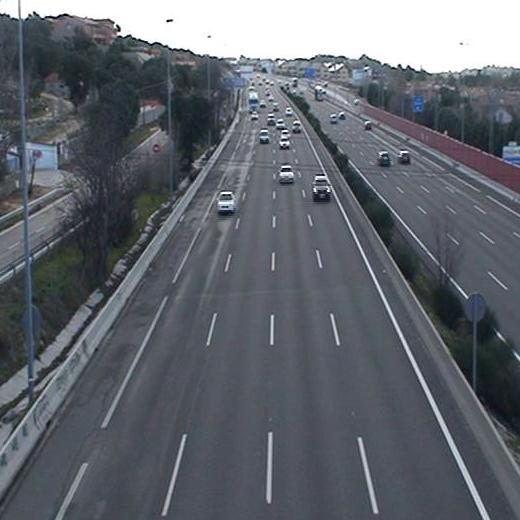car: (310, 174, 333, 202), (215, 190, 237, 213), (279, 164, 295, 184), (258, 128, 270, 145), (278, 135, 292, 148)
